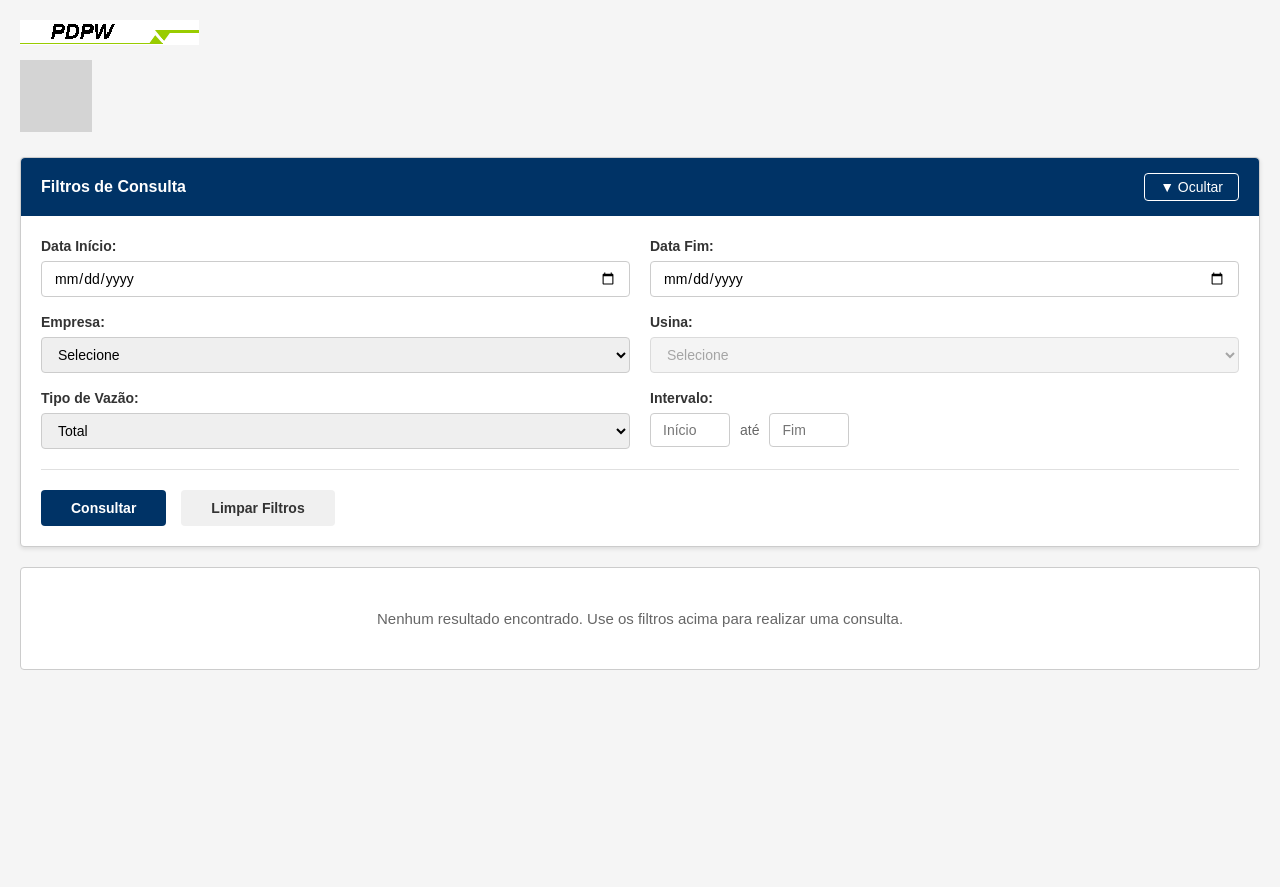
Test: FlowQuery Component › Consulta › deve exibir tabela de dados após consulta
Click the button "Consultar": coordinates (104, 508) 41,490 -> 166,526
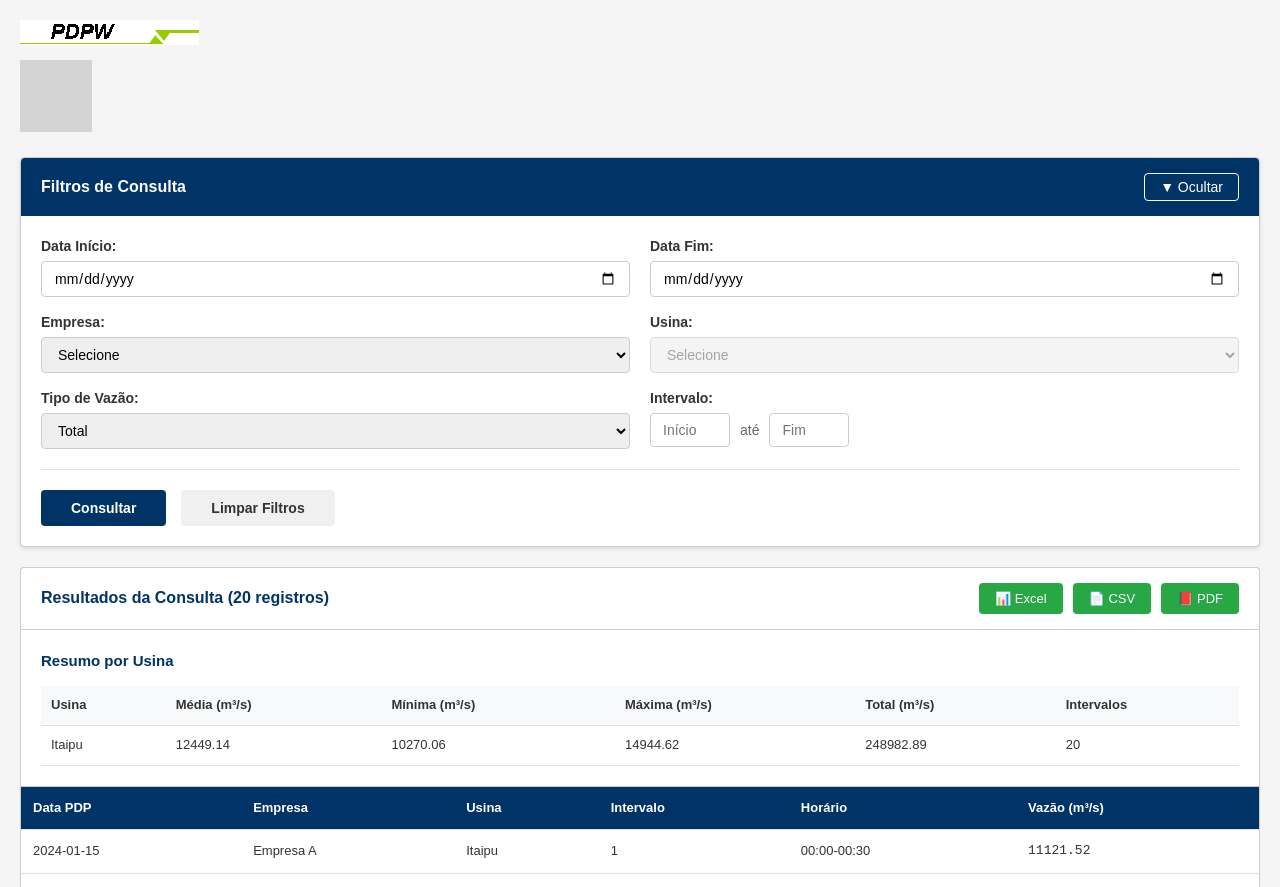
Now the table that starts with "Usina" is shown, box 41,686 -> 1239,766
Now the column heading "Data PDP" is shown, box 21,786 -> 241,830
Now the column heading "Vazão (m³/s)" is shown, box 1016,786 -> 1259,830
